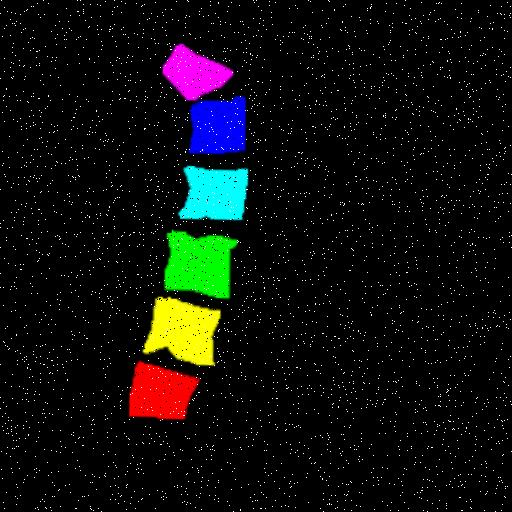L1: (122, 364, 193, 420)
L2: (138, 299, 214, 367)
L3: (159, 234, 232, 300)
L4: (175, 169, 244, 222)
L5: (187, 99, 241, 155)
S1: (160, 47, 231, 102)
